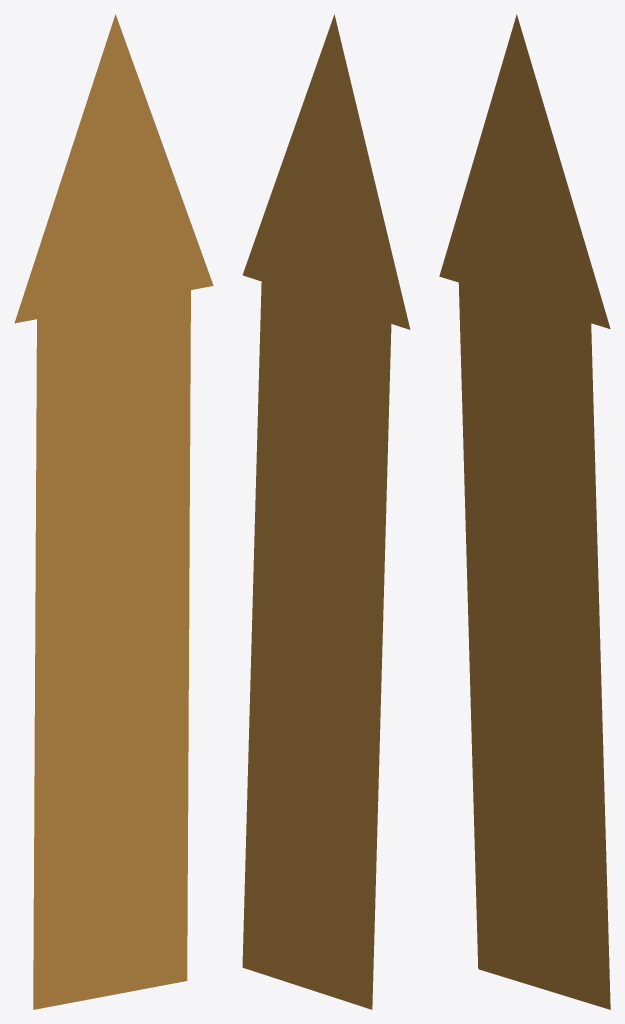
File: Minutehand.glb
3 renders of one model, left to right at view 1: azimuth 30°, elevation 25°; view 2: azimuth 150°, elevation 25°; view 3: azimuth 330°, elevation 25°, orthographic. The views are drawn at different scales.
Parts seen in each view (by area): view 1: Plane.001; view 2: Plane.001; view 3: Plane.001.
Boxes of the visible parts, left/top/right/bottom form: Plane.001: left=14, top=14, right=213, bottom=1009; Plane.001: left=242, top=14, right=410, bottom=1009; Plane.001: left=439, top=14, right=610, bottom=1009.
Bounding box in the file's own units: 0.0851 × 0.4352 × 0.0184.
